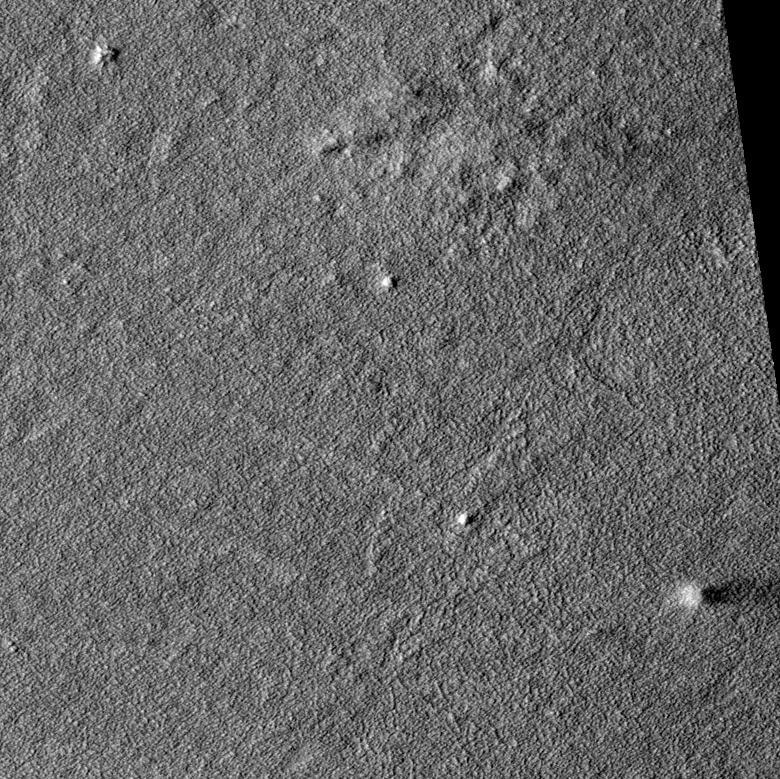dust_devil: (675, 573, 780, 611)
